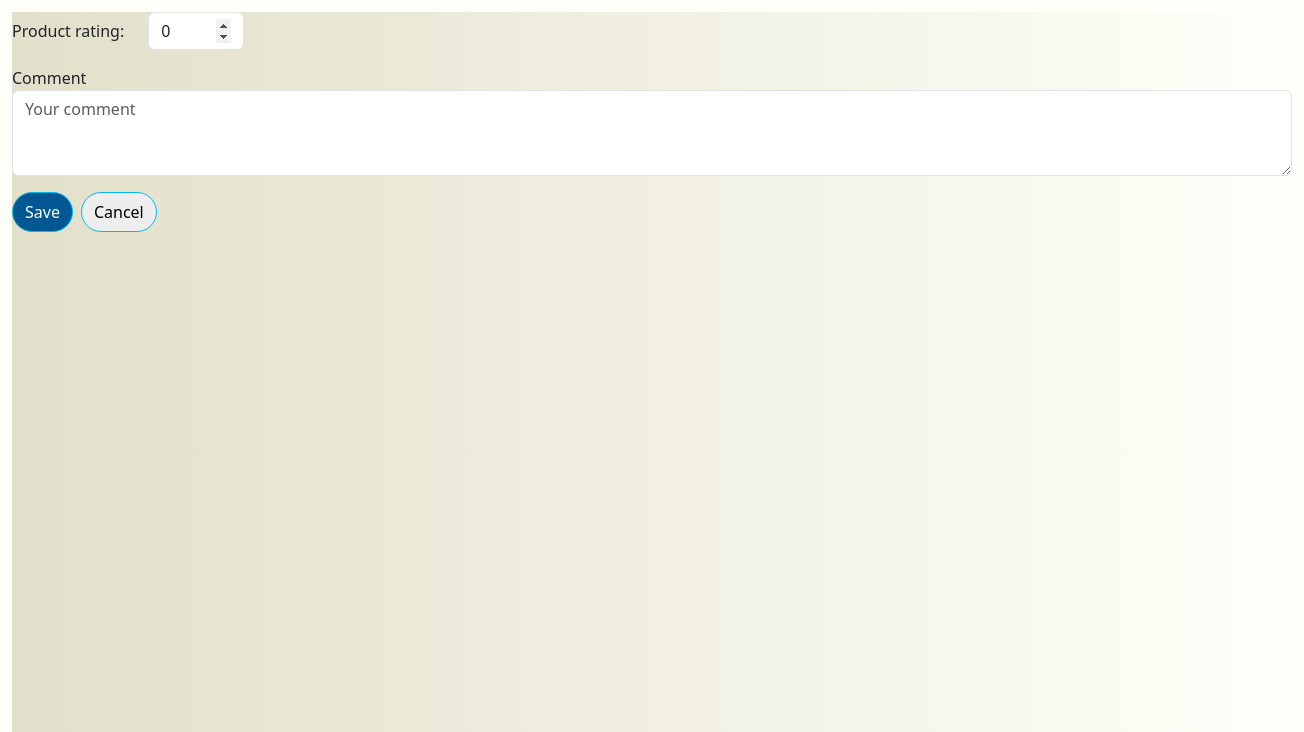
Comment form tests › Comment less than 5 chars should display error
Type "Bad" into the text box labelled "Comment" at (652, 133), box [12,90,1292,176]
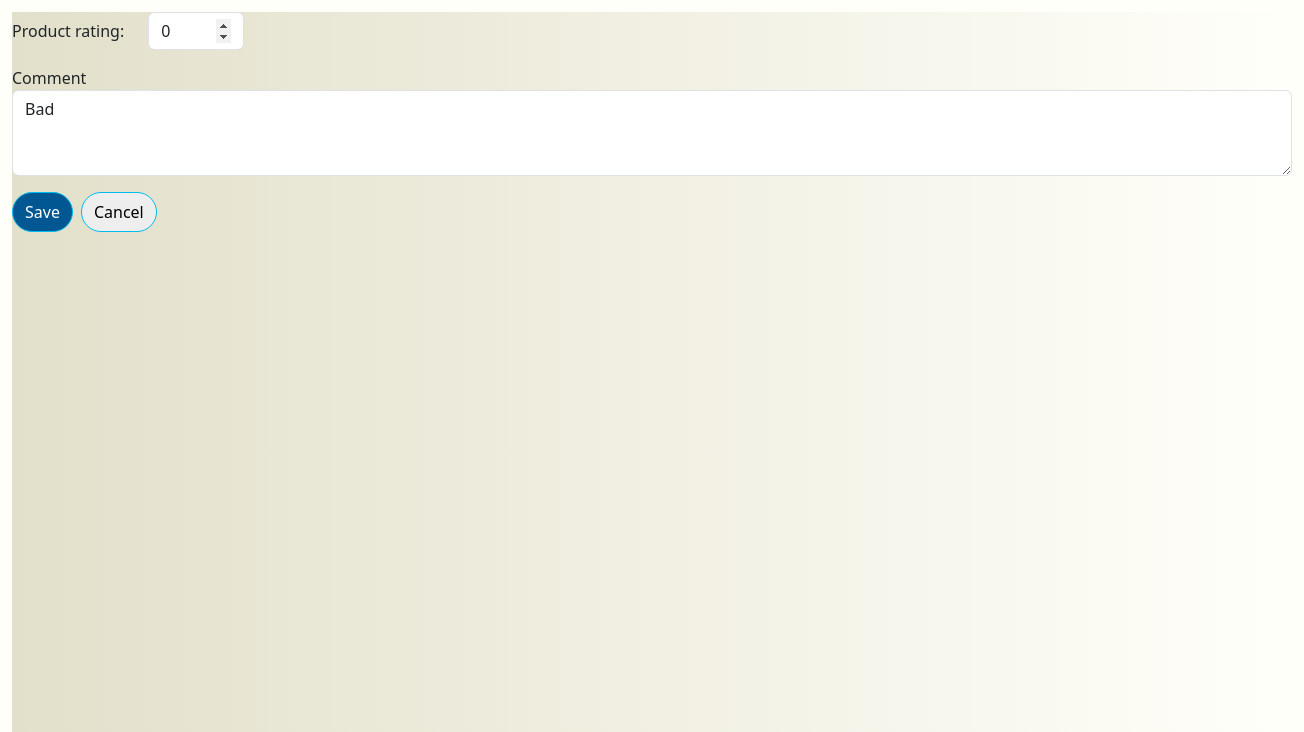
Click the button "Save" at (42, 212), box [12,192,73,232]
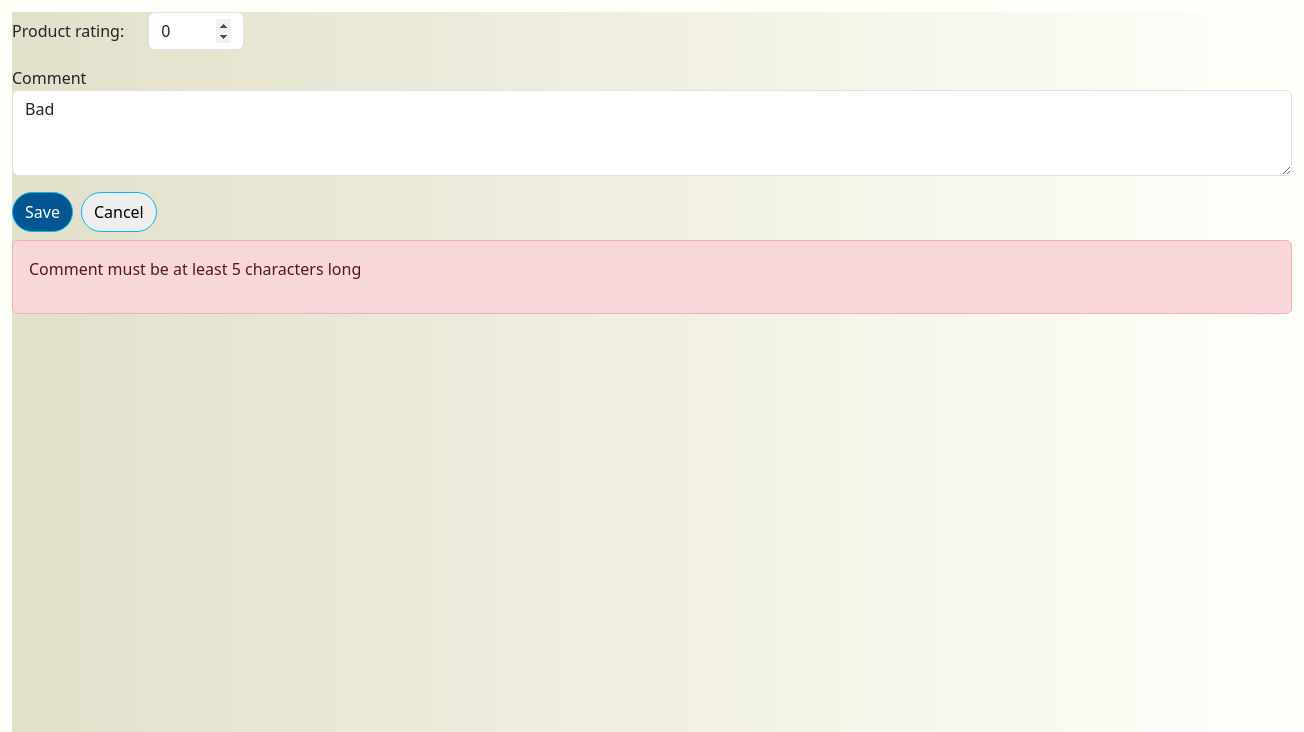
Expected: the text "Comment must be at least 5 characters long" is shown, [29,258,361,280]
